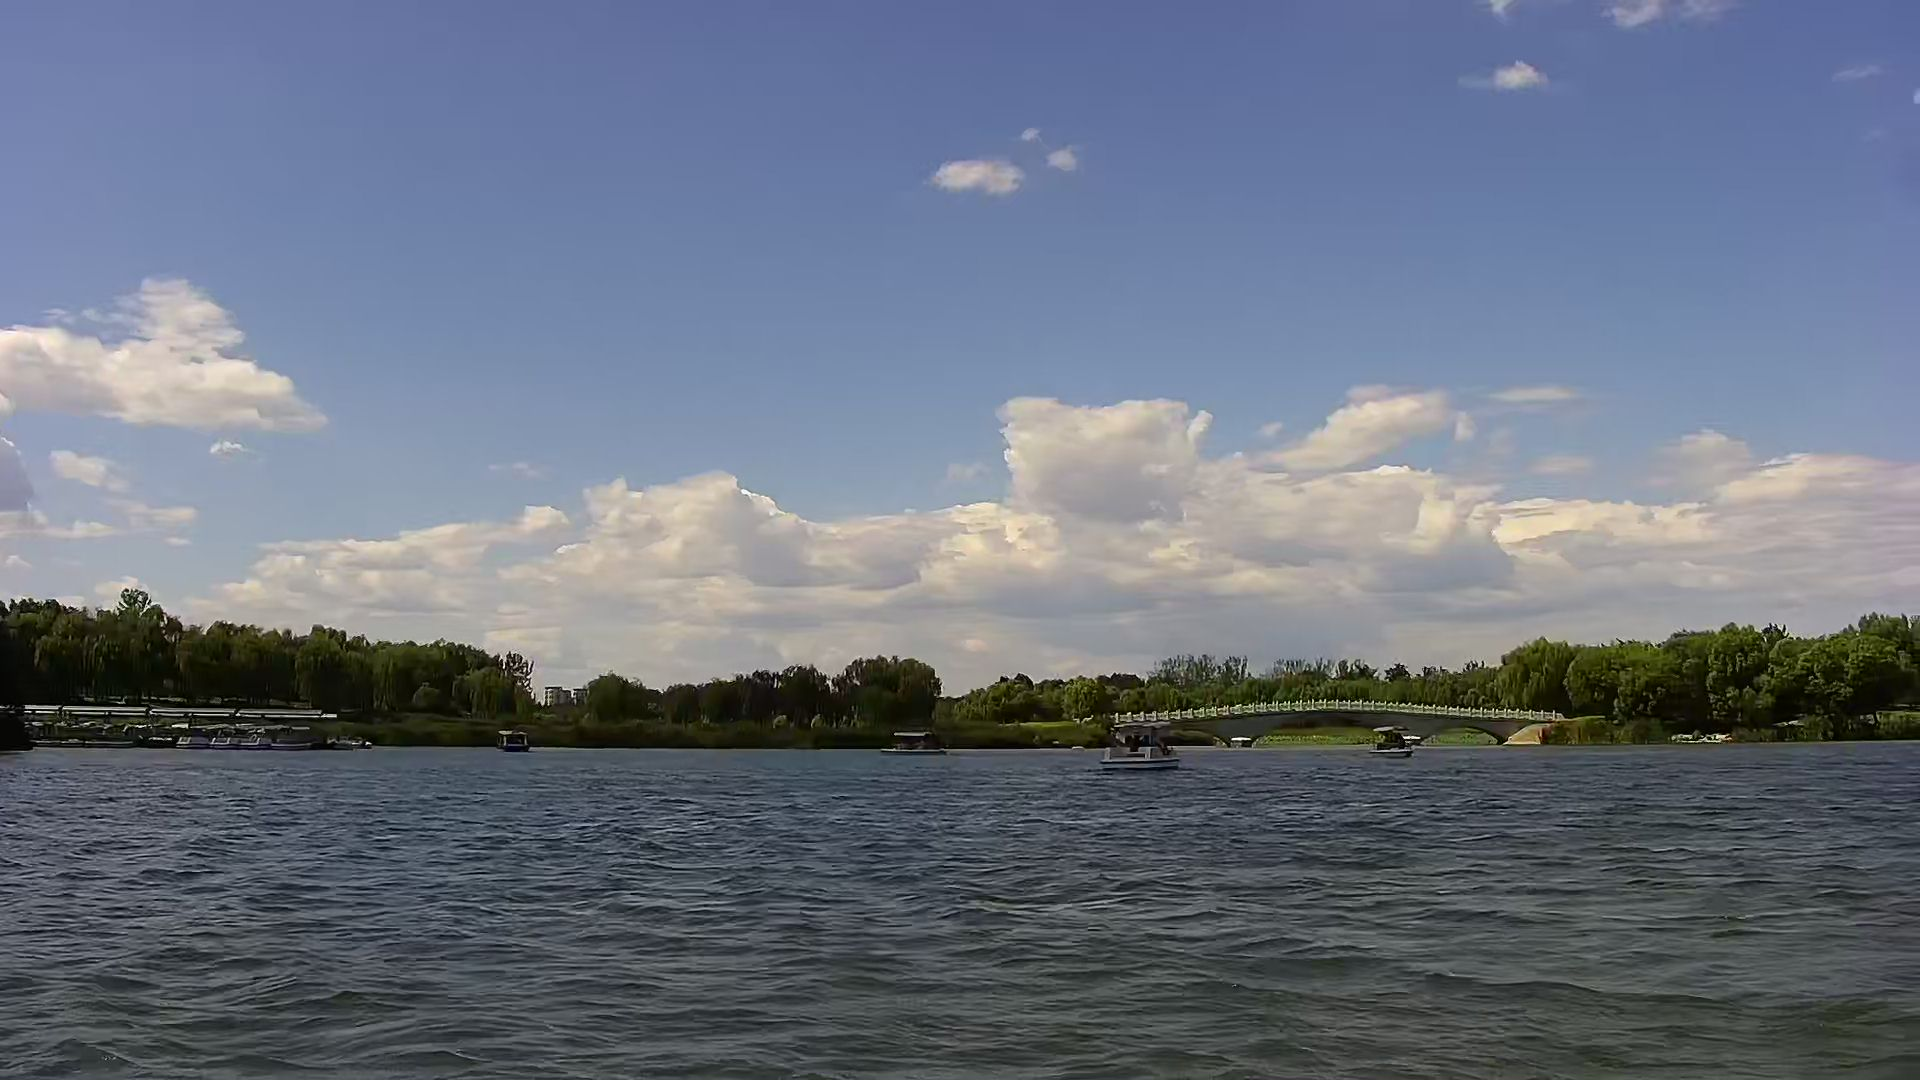boat: (1083, 716, 1187, 775), (1360, 717, 1433, 767), (885, 717, 955, 754), (489, 716, 541, 758)
bridge: (1093, 696, 1561, 758)
